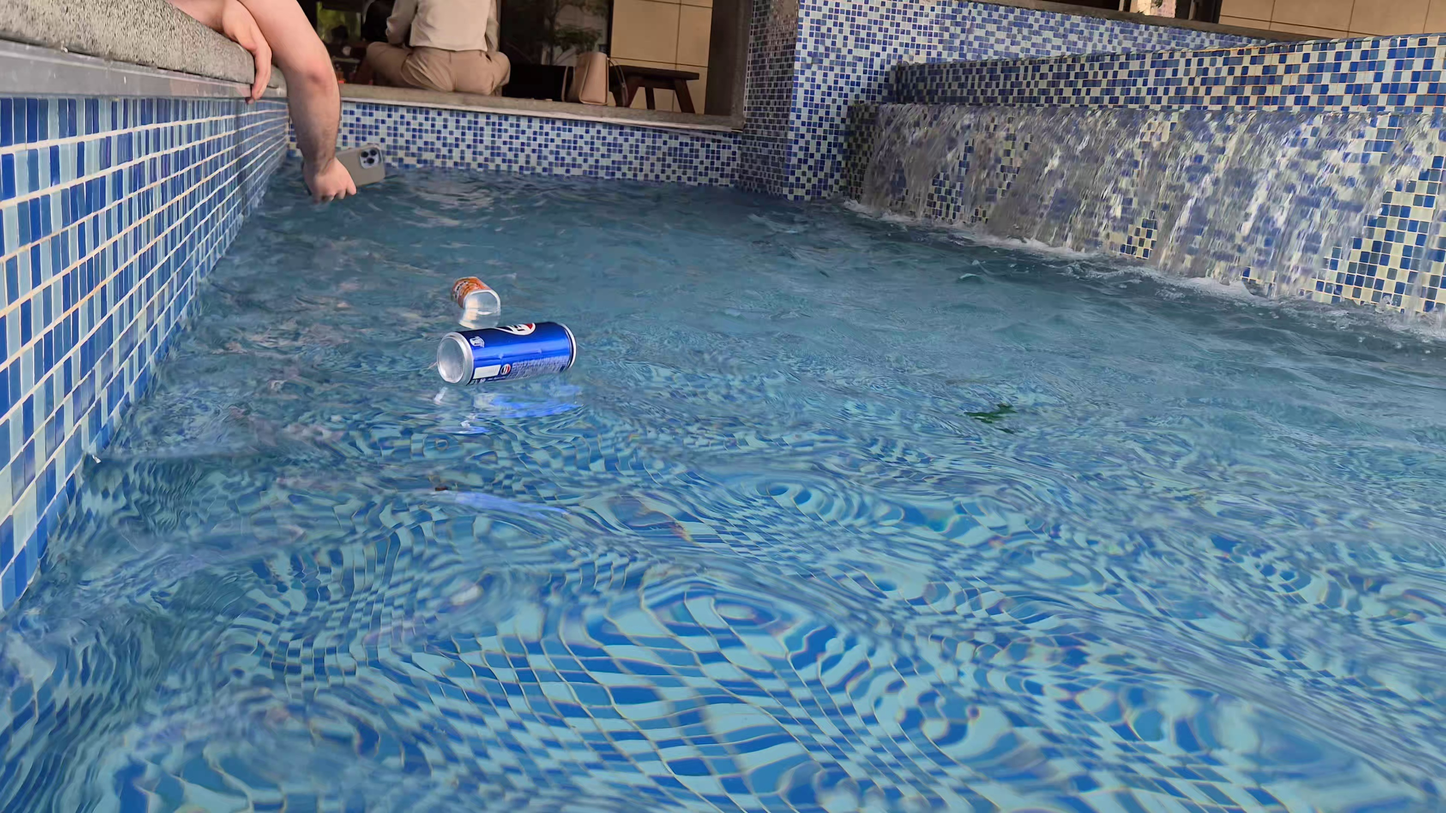debris: (431, 314, 577, 397), (447, 273, 504, 320)
